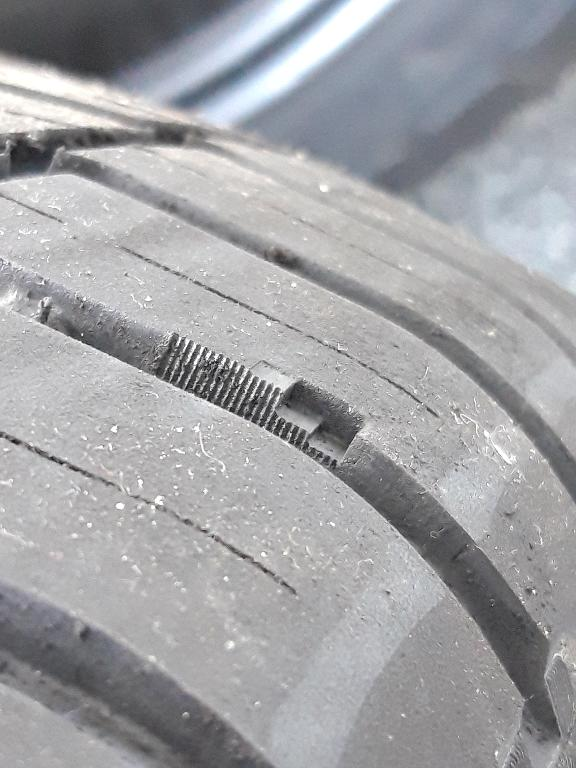temoin:50: (228, 356, 375, 478)
